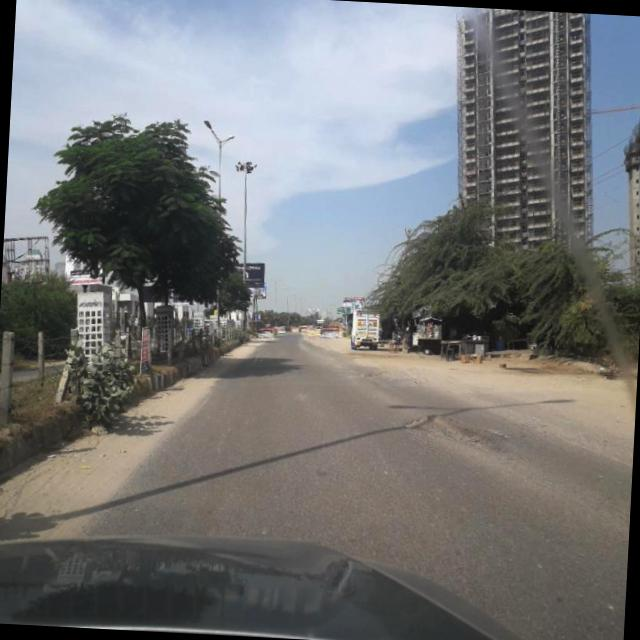pothole: (395, 403, 521, 472)
